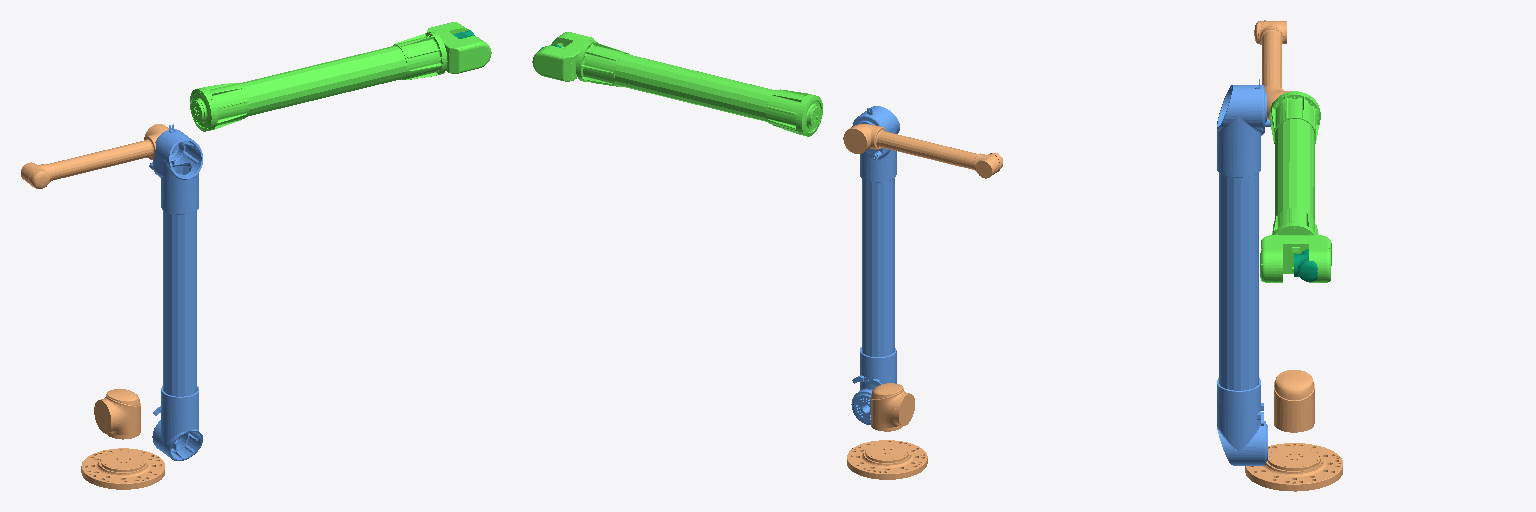
URDF robot description (lunarArm):
<?xml version="1.0" encoding="utf-8"?>
<!-- This URDF was automatically created by SolidWorks to URDF Exporter! Originally created by [author] ([email redacted]) 
     Commit Version: 1.6.0-4-g7f85cfe  Build Version: 1.6.7995.38578
     For more information, please see http://wiki.ros.org/sw_urdf_exporter -->
<robot
  name="lunarArm">
  <link
    name="base_link">
    <inertial>
      <origin
        xyz="0.00025028 -7.8901E-05 0.02608"
        rpy="0 0 0" />
      <mass
        value="16.84" />
      <inertia
        ixx="0.1751"
        ixy="0.00013254"
        ixz="2.1206E-05"
        iyy="0.17563"
        iyz="-7.0511E-06"
        izz="0.33992" />
    </inertial>
    <visual>
      <origin
        xyz="0 0 0"
        rpy="0 0 0" />
      <geometry>
        <mesh
          filename="package://lunarArm/meshes/base_link.STL" />
      </geometry>
      <material
        name="">
        <color
          rgba="0.98824 0.73725 0.51765 1" />
      </material>
    </visual>
    <collision>
      <origin
        xyz="0 0 0"
        rpy="0 0 0" />
      <geometry>
        <mesh
          filename="package://lunarArm/meshes/base_link.STL" />
      </geometry>
    </collision>
  </link>
  <link
    name="link_1">
    <inertial>
      <origin
        xyz="0.14799 -0.024106 -0.024855"
        rpy="0 0 0" />
      <mass
        value="46.231" />
      <inertia
        ixx="0.13949"
        ixy="0.00010217"
        ixz="-7.2873E-05"
        iyy="0.1829"
        iyz="-2.943E-06"
        izz="0.1554" />
    </inertial>
    <visual>
      <origin
        xyz="0 0 0"
        rpy="0 0 0" />
      <geometry>
        <mesh
          filename="package://lunarArm/meshes/link_1.STL" />
      </geometry>
      <material
        name="">
        <color
          rgba="0.98824 0.73725 0.51765 1" />
      </material>
    </visual>
    <collision>
      <origin
        xyz="0 0 0"
        rpy="0 0 0" />
      <geometry>
        <mesh
          filename="package://lunarArm/meshes/link_1.STL" />
      </geometry>
    </collision>
  </link>
  <joint
    name="joint_1"
    type="revolute">
    <origin
      xyz="0 0 0.229"
      rpy="0 0 0" />
    <parent
      link="base_link" />
    <child
      link="link_1" />
    <axis
      xyz="0 0 1" />
    <limit
      lower="-6.2832"
      upper="6.2832"
      effort="0"
      velocity="0" />
  </joint>
  <link
    name="link_2">
    <inertial>
      <origin
        xyz="0.83834 0.0038061 0.22126"
        rpy="0 0 0" />
      <mass
        value="24.237" />
      <inertia
        ixx="0.20173"
        ixy="0.00014631"
        ixz="-0.0030013"
        iyy="1.249"
        iyz="0.0026338"
        izz="1.2505" />
    </inertial>
    <visual>
      <origin
        xyz="0 0 0"
        rpy="0 0 0" />
      <geometry>
        <mesh
          filename="package://lunarArm/meshes/link_2.STL" />
      </geometry>
      <material
        name="">
        <color
          rgba="0.46667 0.70196 1 1" />
      </material>
    </visual>
    <collision>
      <origin
        xyz="0 0 0"
        rpy="0 0 0" />
      <geometry>
        <mesh
          filename="package://lunarArm/meshes/link_2.STL" />
      </geometry>
    </collision>
  </link>
  <joint
    name="joint_2"
    type="revolute">
    <origin
      xyz="0.2 0 0"
      rpy="1.5708 -1.5708 0" />
    <parent
      link="link_1" />
    <child
      link="link_2" />
    <axis
      xyz="0 0 1" />
    <limit
      lower="-3.1416"
      upper="3.1416"
      effort="0"
      velocity="0" />
  </joint>
  <link
    name="link_3">
    <inertial>
      <origin
        xyz="0.033918 -0.061928 0.046646"
        rpy="0 0 0" />
      <mass
        value="28.763" />
      <inertia
        ixx="0.22343"
        ixy="0.028279"
        ixz="0.0068456"
        iyy="0.20045"
        iyz="-0.040769"
        izz="0.28282" />
    </inertial>
    <visual>
      <origin
        xyz="0 0 0"
        rpy="0 0 0" />
      <geometry>
        <mesh
          filename="package://lunarArm/meshes/link_3.STL" />
      </geometry>
      <material
        name="">
        <color
          rgba="0.98824 0.73725 0.51765 1" />
      </material>
    </visual>
    <collision>
      <origin
        xyz="0 0 0"
        rpy="0 0 0" />
      <geometry>
        <mesh
          filename="package://lunarArm/meshes/link_3.STL" />
      </geometry>
    </collision>
  </link>
  <joint
    name="joint_3"
    type="revolute">
    <origin
      xyz="1.65 0 0"
      rpy="0 0 0" />
    <parent
      link="link_2" />
    <child
      link="link_3" />
    <axis
      xyz="0 0 1" />
    <limit
      lower="-3.1416"
      upper="3.1416"
      effort="0"
      velocity="0" />
  </joint>
  <link
    name="link_4">
    <inertial>
      <origin
        xyz="0.00012024 -0.0034361 -0.79411"
        rpy="0 0 0" />
      <mass
        value="19.419" />
      <inertia
        ixx="0.86759"
        ixy="3.0378E-07"
        ixz="-2.8589E-06"
        iyy="0.87448"
        iyz="-0.0016904"
        izz="0.13274" />
    </inertial>
    <visual>
      <origin
        xyz="0 0 0"
        rpy="0 0 0" />
      <geometry>
        <mesh
          filename="package://lunarArm/meshes/link_4.STL" />
      </geometry>
      <material
        name="">
        <color
          rgba="0.46667 1 0.40392 1" />
      </material>
    </visual>
    <collision>
      <origin
        xyz="0 0 0"
        rpy="0 0 0" />
      <geometry>
        <mesh
          filename="package://lunarArm/meshes/link_4.STL" />
      </geometry>
    </collision>
  </link>
  <joint
    name="joint_4"
    type="revolute">
    <origin
      xyz="0.09 -1.8624 0"
      rpy="1.5708 0 0" />
    <parent
      link="link_3" />
    <child
      link="link_4" />
    <axis
      xyz="0 0 1" />
    <limit
      lower="-6.2832"
      upper="6.2832"
      effort="0"
      velocity="0" />
  </joint>
  <link
    name="link_5">
    <inertial>
      <origin
        xyz="-0.00035063 0.028134 0.0011422"
        rpy="0 0 0" />
      <mass
        value="1.4354" />
      <inertia
        ixx="0.0027564"
        ixy="1.0074E-08"
        ixz="-9.5125E-07"
        iyy="0.0026368"
        iyz="0.00013232"
        izz="0.0023676" />
    </inertial>
    <visual>
      <origin
        xyz="0 0 0"
        rpy="0 0 0" />
      <geometry>
        <mesh
          filename="package://lunarArm/meshes/link_5.STL" />
      </geometry>
      <material
        name="">
        <color
          rgba="0.078431 0.67059 0.50196 1" />
      </material>
    </visual>
    <collision>
      <origin
        xyz="0 0 0"
        rpy="0 0 0" />
      <geometry>
        <mesh
          filename="package://lunarArm/meshes/link_5.STL" />
      </geometry>
    </collision>
  </link>
  <joint
    name="joint_5"
    type="revolute">
    <origin
      xyz="0 0 0"
      rpy="1.5708 -1.5708 0" />
    <parent
      link="link_4" />
    <child
      link="link_5" />
    <axis
      xyz="0 0 1" />
    <limit
      lower="-3.1416"
      upper="1.5708"
      effort="0"
      velocity="0" />
  </joint>
  <link
    name="link_6">
    <inertial>
      <origin
        xyz="-0.00031751 0.00015612 -0.027775"
        rpy="0 0 0" />
      <mass
        value="1.1891" />
      <inertia
        ixx="0.00072168"
        ixy="-6.126E-07"
        ixz="-4.6657E-07"
        iyy="0.00072593"
        iyz="2.1358E-07"
        izz="0.0014041" />
    </inertial>
    <visual>
      <origin
        xyz="0 0 0"
        rpy="0 0 0" />
      <geometry>
        <mesh
          filename="package://lunarArm/meshes/link_6.STL" />
      </geometry>
      <material
        name="">
        <color
          rgba="0.77647 0.75686 0.73725 1" />
      </material>
    </visual>
    <collision>
      <origin
        xyz="0 0 0"
        rpy="0 0 0" />
      <geometry>
        <mesh
          filename="package://lunarArm/meshes/link_6.STL" />
      </geometry>
    </collision>
  </link>
  <joint
    name="joint_6"
    type="revolute">
    <origin
      xyz="0 0.1256 0"
      rpy="-1.5708 0 0" />
    <parent
      link="link_5" />
    <child
      link="link_6" />
    <axis
      xyz="0 0 1" />
    <limit
      lower="-6.2832"
      upper="6.2832"
      effort="0"
      velocity="0" />
  </joint>
</robot>

--- Render facts (derived) ---
The picture shows the robot from 3 angles, left to right: view 1: azimuth 30°, elevation 25°; view 2: azimuth 150°, elevation 25°; view 3: azimuth 270°, elevation 25°; orthographic projection.
Model lunarArm with 7 links and 6 joints (6 revolute), rooted at base_link, posed all joints at 0.
Visible links, largest first — view 1: link_2, link_4, base_link, link_3, link_1; view 2: link_4, link_2, link_3, base_link, link_1; view 3: link_2, link_4, base_link, link_1, link_3, link_5.
Link boxes in pixels (x1,y1,x2,y2): link_2: [149, 124, 202, 460]; link_4: [190, 22, 491, 131]; base_link: [81, 448, 164, 489]; link_3: [21, 124, 173, 188]; link_1: [94, 389, 140, 439]; link_4: [532, 32, 822, 136]; link_2: [851, 106, 899, 424]; link_3: [843, 124, 1002, 178]; base_link: [847, 440, 927, 479]; link_1: [870, 383, 914, 431]; link_2: [1217, 79, 1270, 465]; link_4: [1260, 91, 1331, 282]; base_link: [1245, 443, 1342, 491]; link_1: [1274, 370, 1314, 432]; link_3: [1254, 20, 1290, 119]; link_5: [1294, 249, 1317, 281].
Bounding box of the posed robot: 2.78 × 0.5654 × 2.08 m (x, y, z).
Meshes: 7 distinct files referenced, 6 mesh visuals loaded (6 binary STL); not drawn: 1 (reference not matched to a file when rendering).